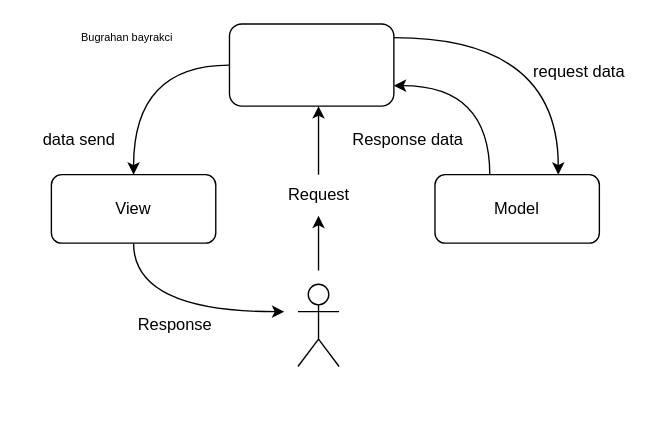
The diagram is 663 pixels wide and 440 high, and some of its shapes have lost their labels. Each missing label, with the box of its shape:
Controller: (228, 23, 394, 106)
User: (297, 283, 339, 366)
